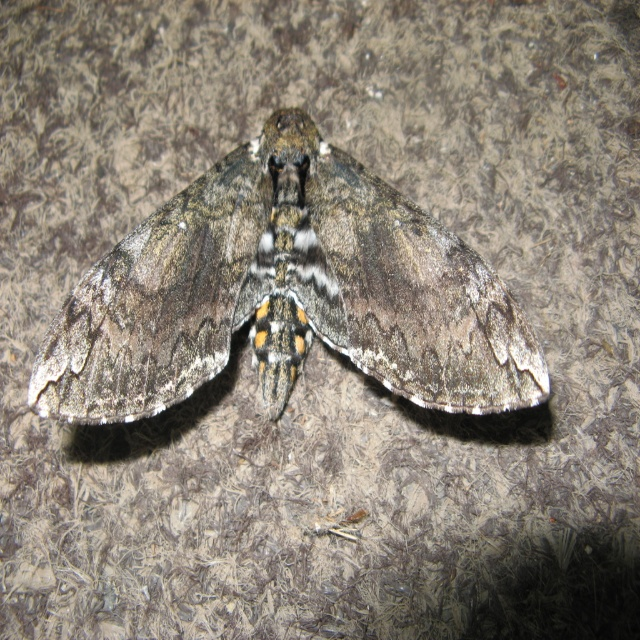Moths and butterflies: (27, 106, 552, 426)
